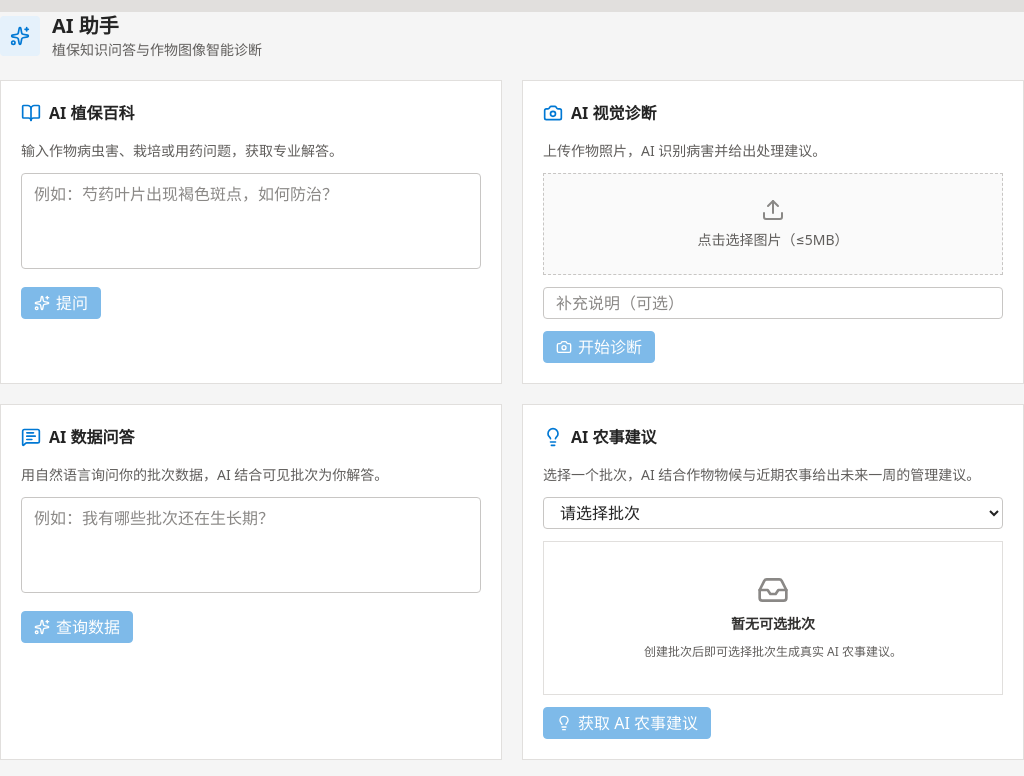
Test case: AiAssistant Fluent production AI surface › sends trimmed chat text through aiChat and renders the real response
Type "  白粉病怎么防治  " into the text box with placeholder "例如：芍药叶片出现褐色斑点，如何防治？" at [251, 221], box left=21, top=173, right=481, bottom=269
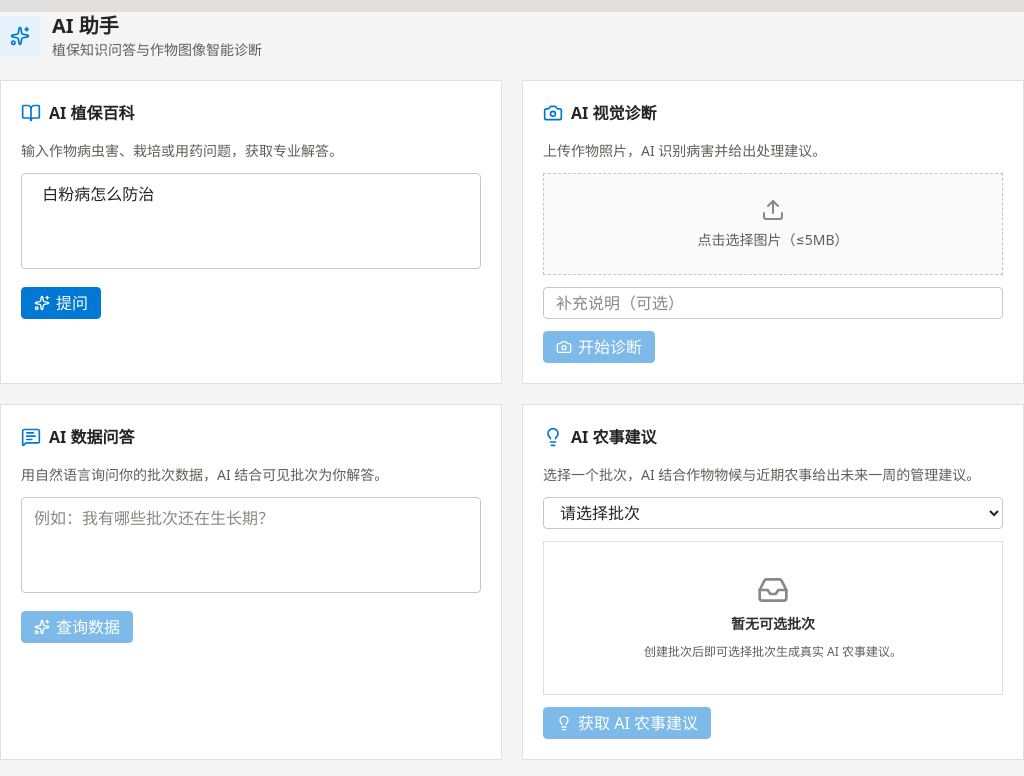
Click the button "提问" at [61, 303], box left=21, top=287, right=101, bottom=319
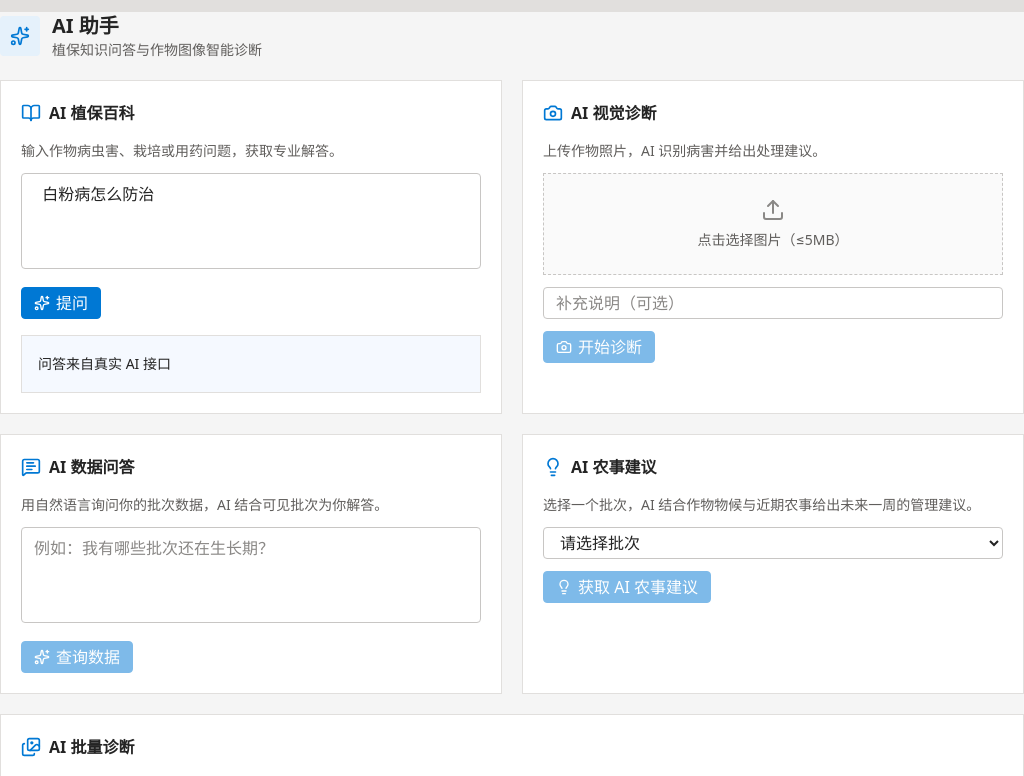
Check: the text "问答来自真实 AI 接口" is shown, box left=21, top=335, right=481, bottom=393
